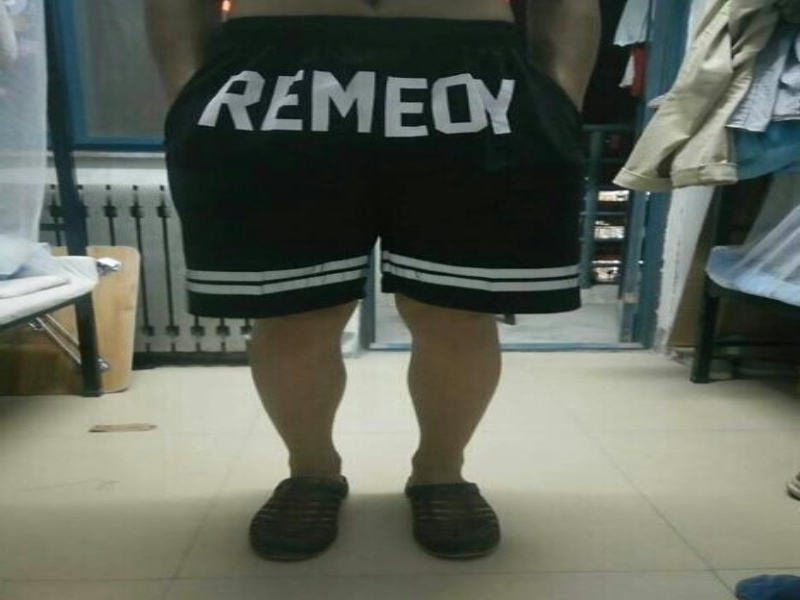shorts: (156, 10, 598, 322)
